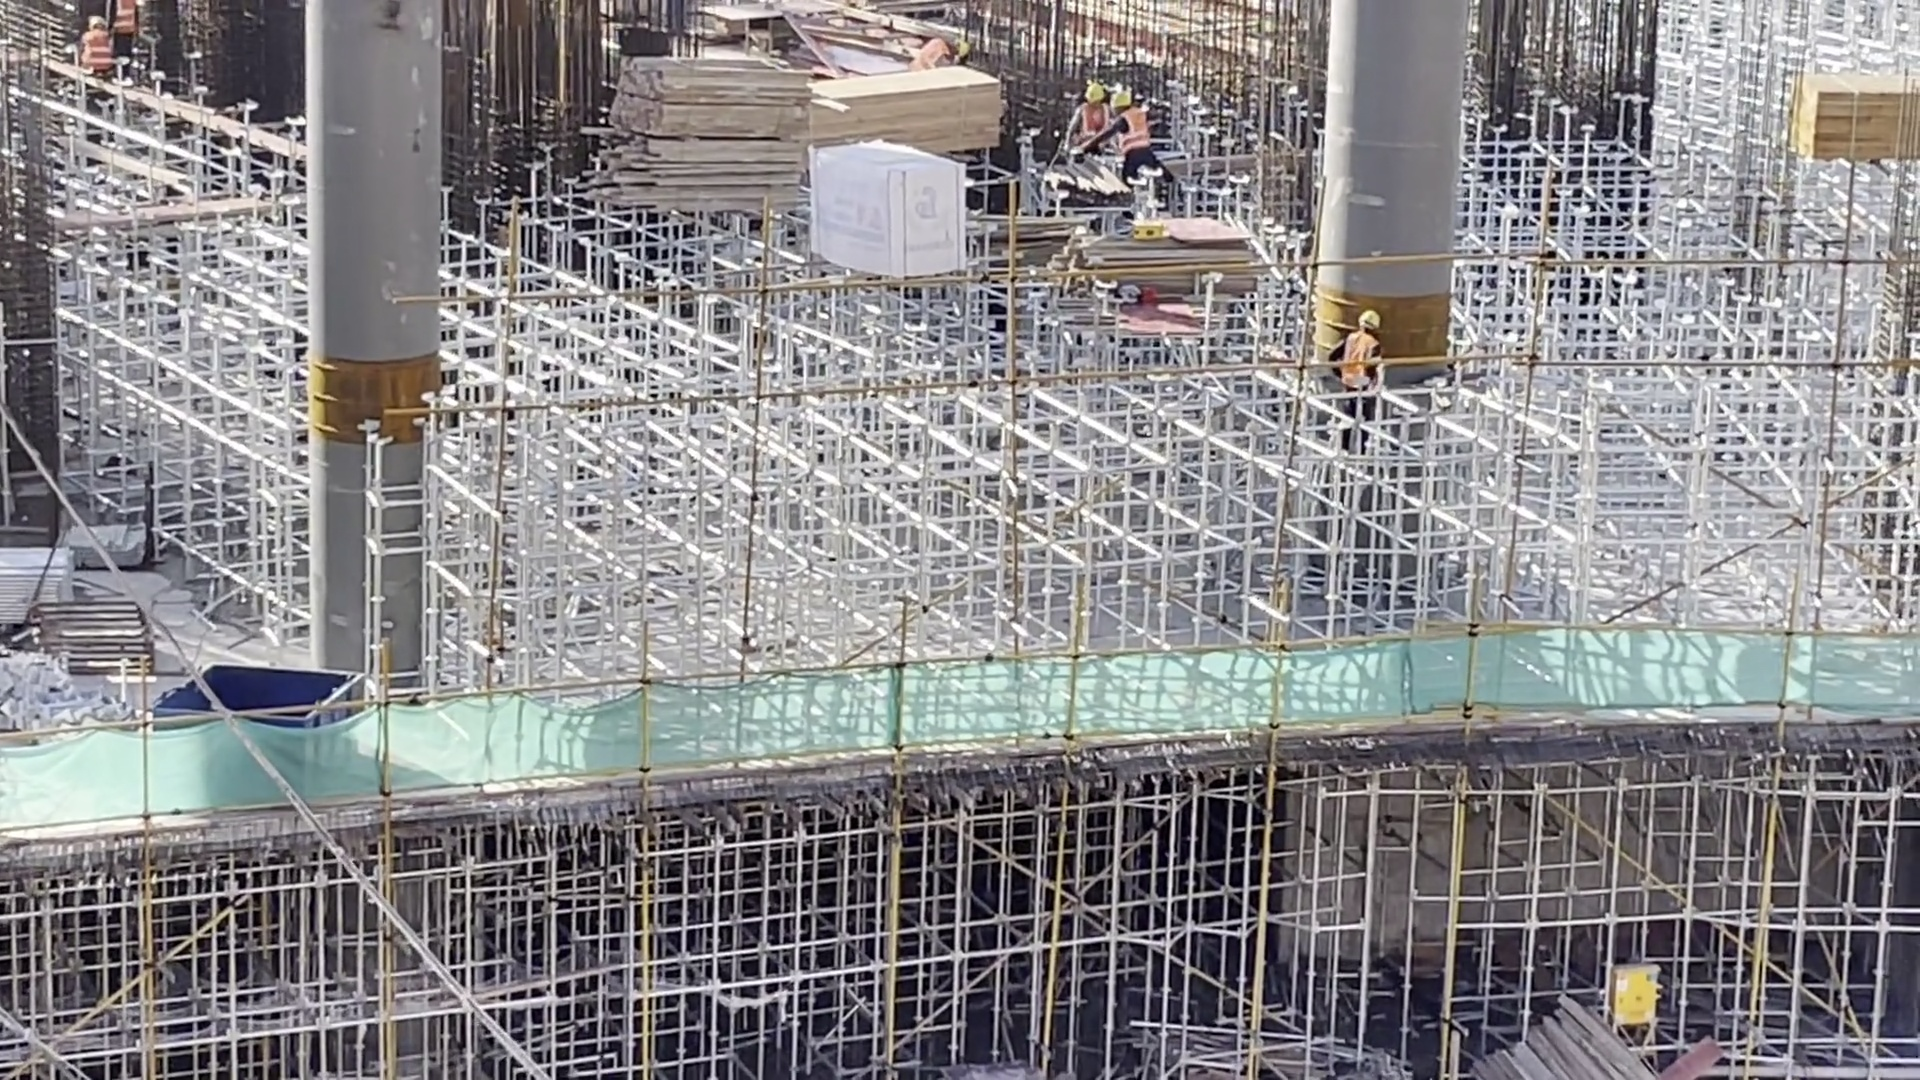board: (1081, 214, 1254, 339)
ebox: (1613, 961, 1662, 1034)
helmet: (1356, 308, 1379, 331), (1109, 92, 1137, 107), (1083, 83, 1104, 102), (957, 37, 970, 63)
hopper: (147, 656, 370, 730)
person: (1328, 308, 1388, 423), (1109, 92, 1177, 183), (1069, 82, 1109, 160), (79, 12, 114, 86), (908, 35, 972, 74), (111, 1, 142, 71)
vest: (1343, 330, 1379, 391), (913, 38, 950, 71), (1119, 109, 1149, 150), (1081, 104, 1107, 135)
wood: (597, 55, 809, 220), (813, 71, 1013, 156), (1782, 65, 1920, 166)
